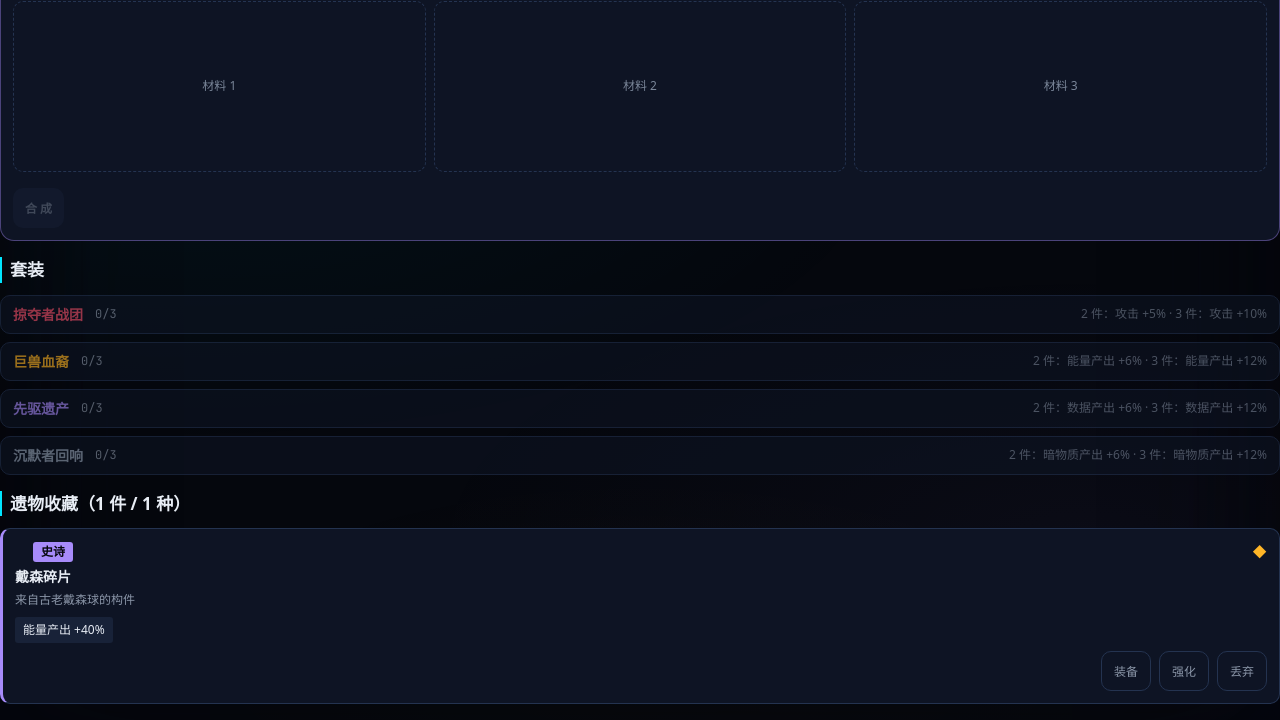
Test: RelicView — 强化（v0.70） › 打开强化面板：显示等级与下一级成本
(page scrolled)
Click the button with test id "enhance-button": (1184, 671) [1159,651,1209,691]
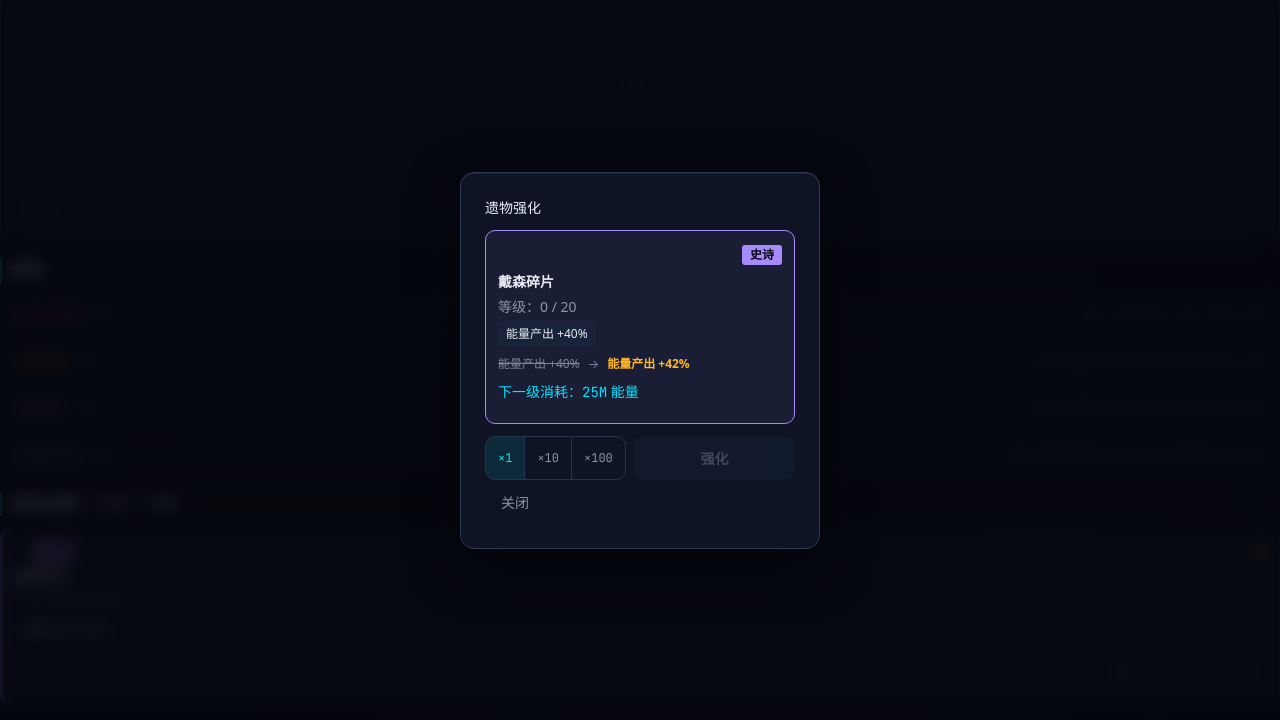
Now the element with test id "enhance-modal" that starts with "戴森碎片" is shown, box [485,230,795,424]
Now the text with test id "enhance-level" shows "0 / 20", box [498,296,576,316]
Now the element with test id "enhance-cost" shows "25M", box [582,382,607,400]
